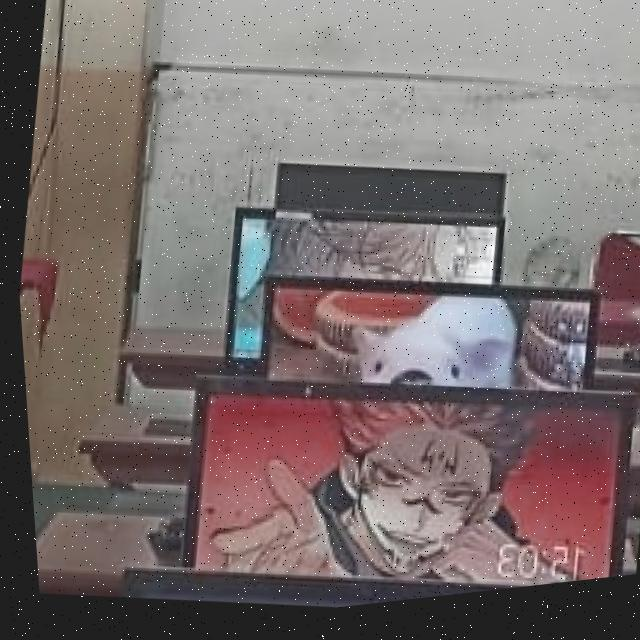onscreen: (186, 398, 615, 596), (221, 214, 494, 364), (263, 290, 585, 403)
